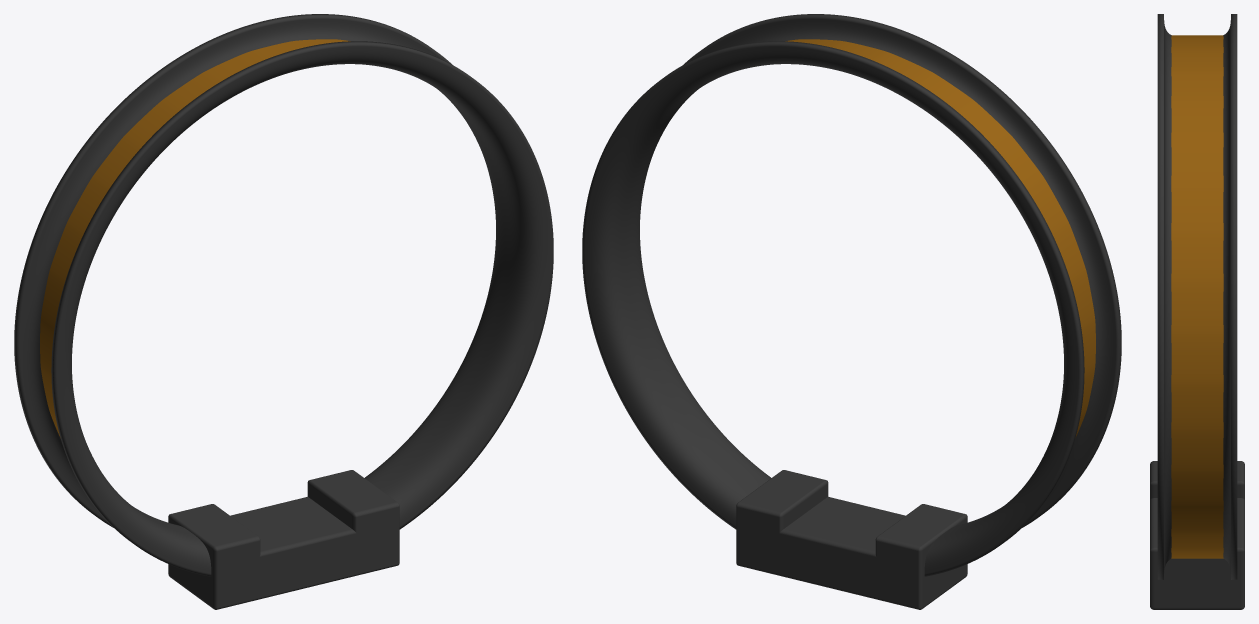
File: Helmholtz-Spule.fbx
3 renders of one model, left to right at view 1: azimuth 30°, elevation 25°; view 2: azimuth 150°, elevation 25°; view 3: azimuth 270°, elevation 25°, orthographic.
Visible parts, largest first — view 1: Rahmen, Sockel, Kupfer; view 2: Rahmen, Sockel, Kupfer; view 3: Kupfer, Rahmen, Sockel.
Part boxes in pixels (<box>): Rahmen: <box>14,14,553,576</box>; Sockel: <box>168,470,399,609</box>; Kupfer: <box>40,39,350,437</box>; Rahmen: <box>582,14,1121,576</box>; Sockel: <box>736,470,967,609</box>; Kupfer: <box>785,39,1095,437</box>; Kupfer: <box>1171,35,1223,558</box>; Rahmen: <box>1157,14,1237,579</box>; Sockel: <box>1150,461,1244,609</box>.
Size of the model in its own units: 215 by 221 by 36.
